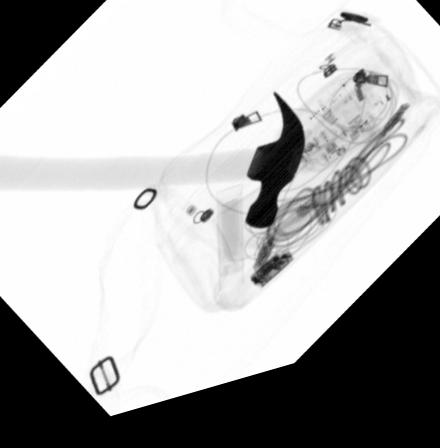Hammer: (0, 107, 307, 245)
